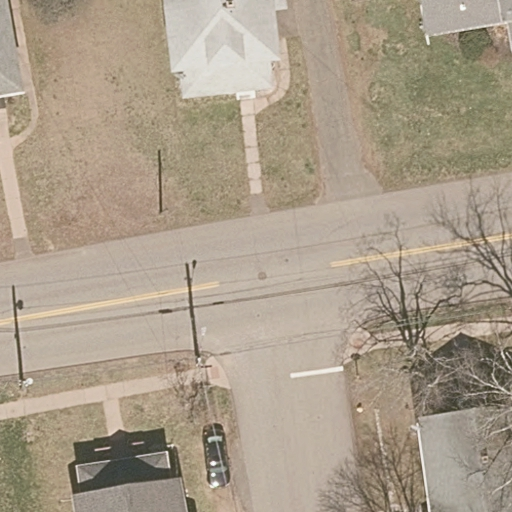DT: (184, 347, 217, 371), (11, 372, 34, 394)
